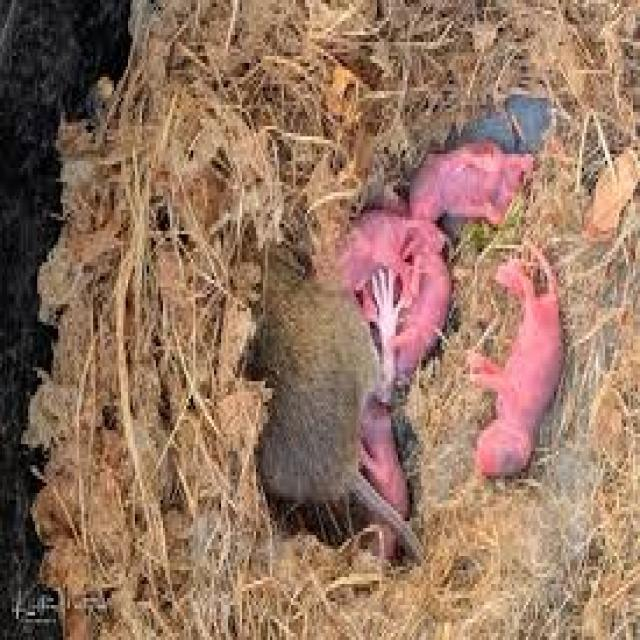Rat: (266, 41, 556, 551)
